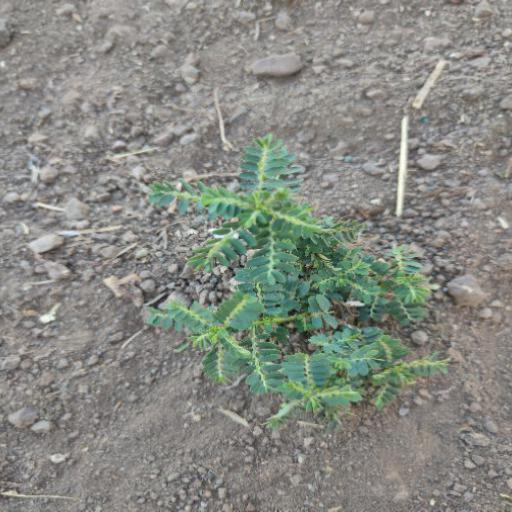weed: (131, 108, 430, 416)
